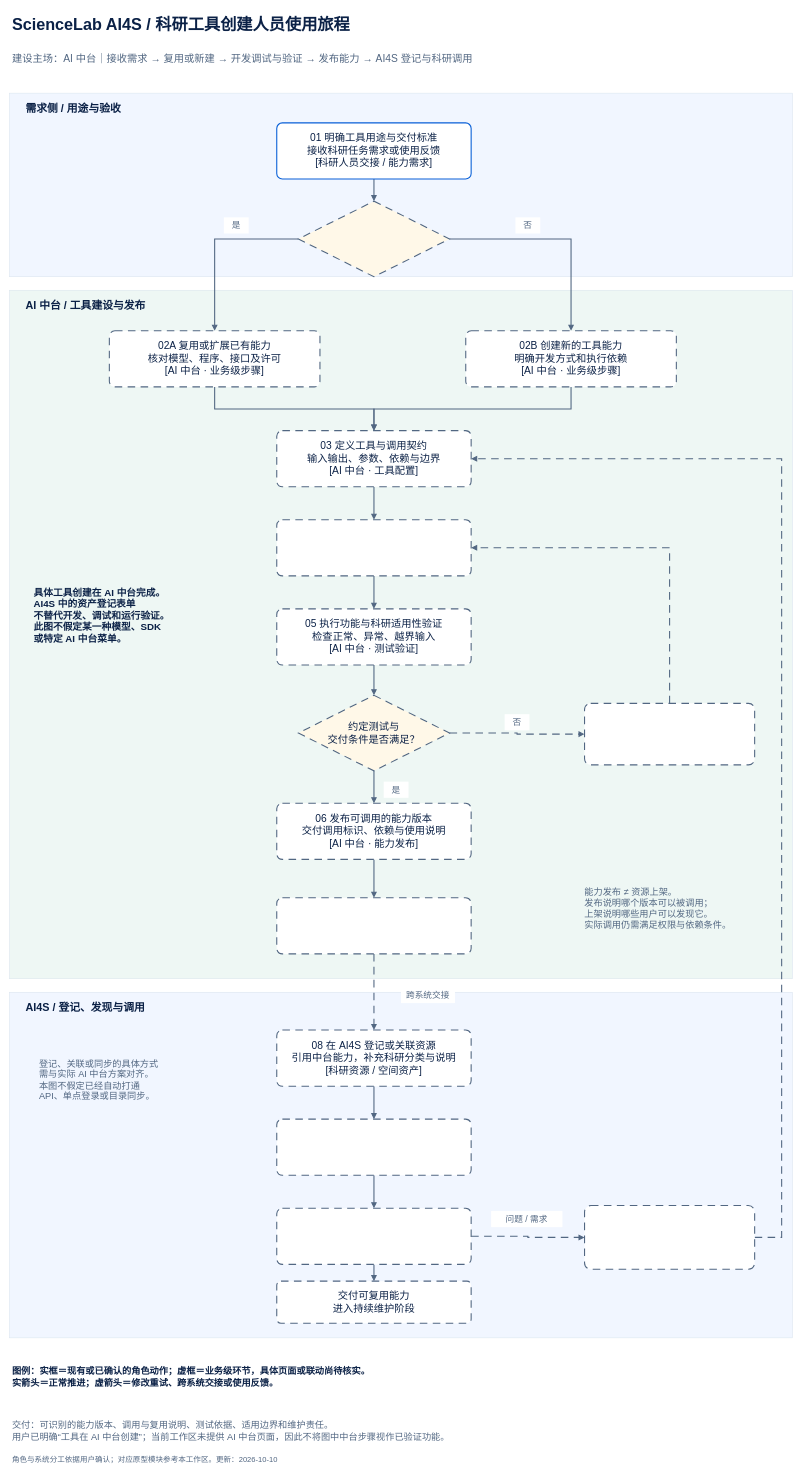
The diagram is 802 pixels wide and 1475 high, and some of its shapes have lost their labels. Each missing label, with the centre of its shape:
04 开发与调试工具 接入所需程序、模型或服务 [AI 中台 · 开发调试]: [373,547]
07 准备能力交接资料 版本、输入输出、测试依据与授权 [AI 中台 → AI4S]: [373,925]
09 核对版本、授权与可用范围 按需发布资源并进入发现目录 [AI4S · 科研资源]: [373,1147]
10 交给科研超级中枢使用 科研人员在研究任务中调用与复核 [科研超级中枢 · 任务会话]: [373,1236]
定位失败原因 修订实现、配置或适用边界 [AI 中台 · 修改后重测]: [669,734]
已有能力 是否可以复用或扩展？: [374,238]
接收失败样例与适用性反馈 回 AI 中台修订并再次验证 [使用反馈 → AI 中台]: [669,1237]
